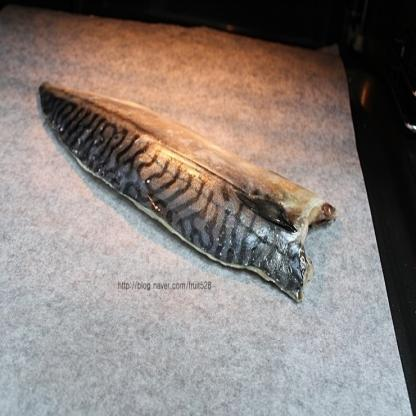Peixe: (23, 89, 331, 296)
